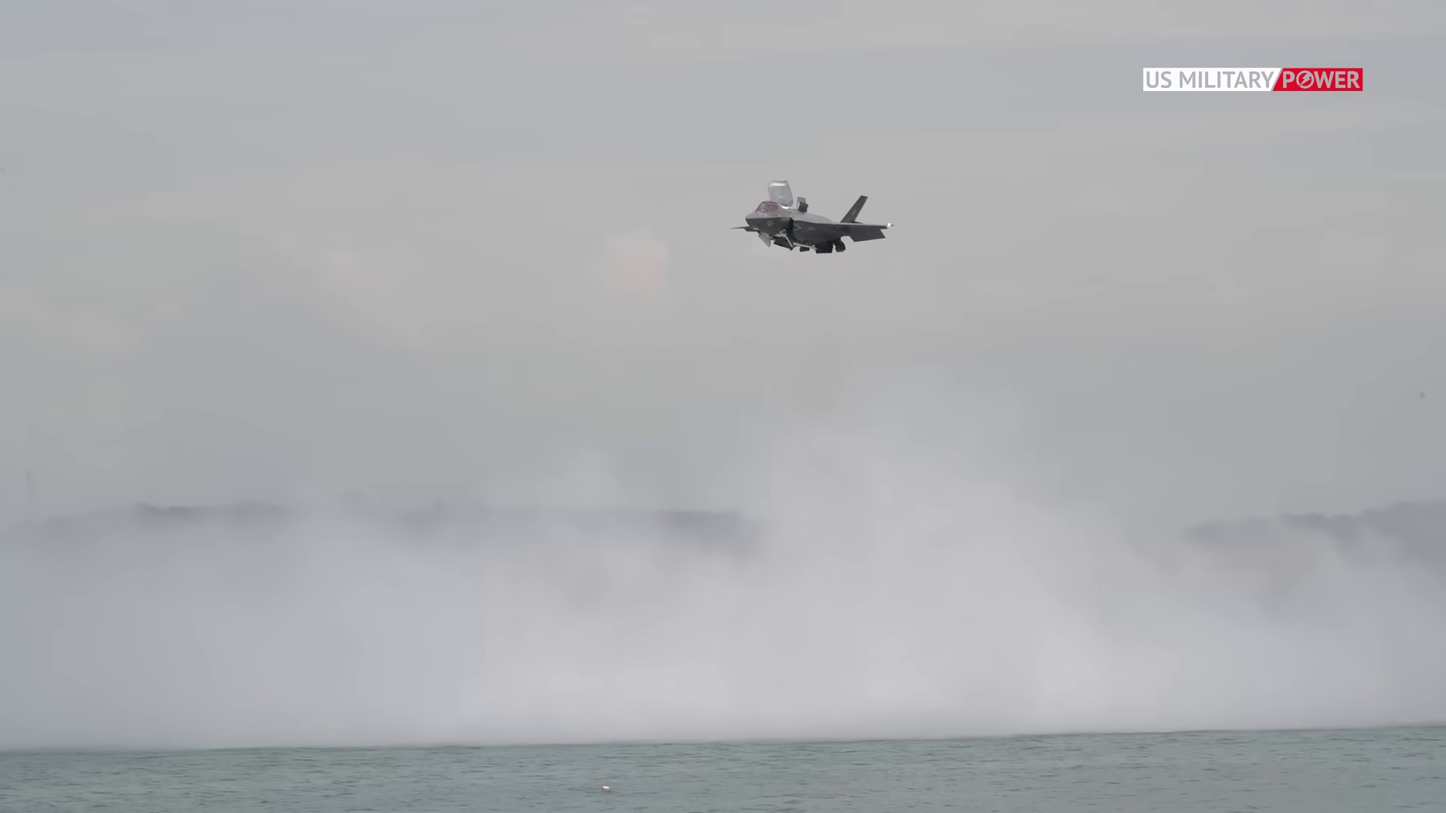F35: (721, 174, 907, 264)
